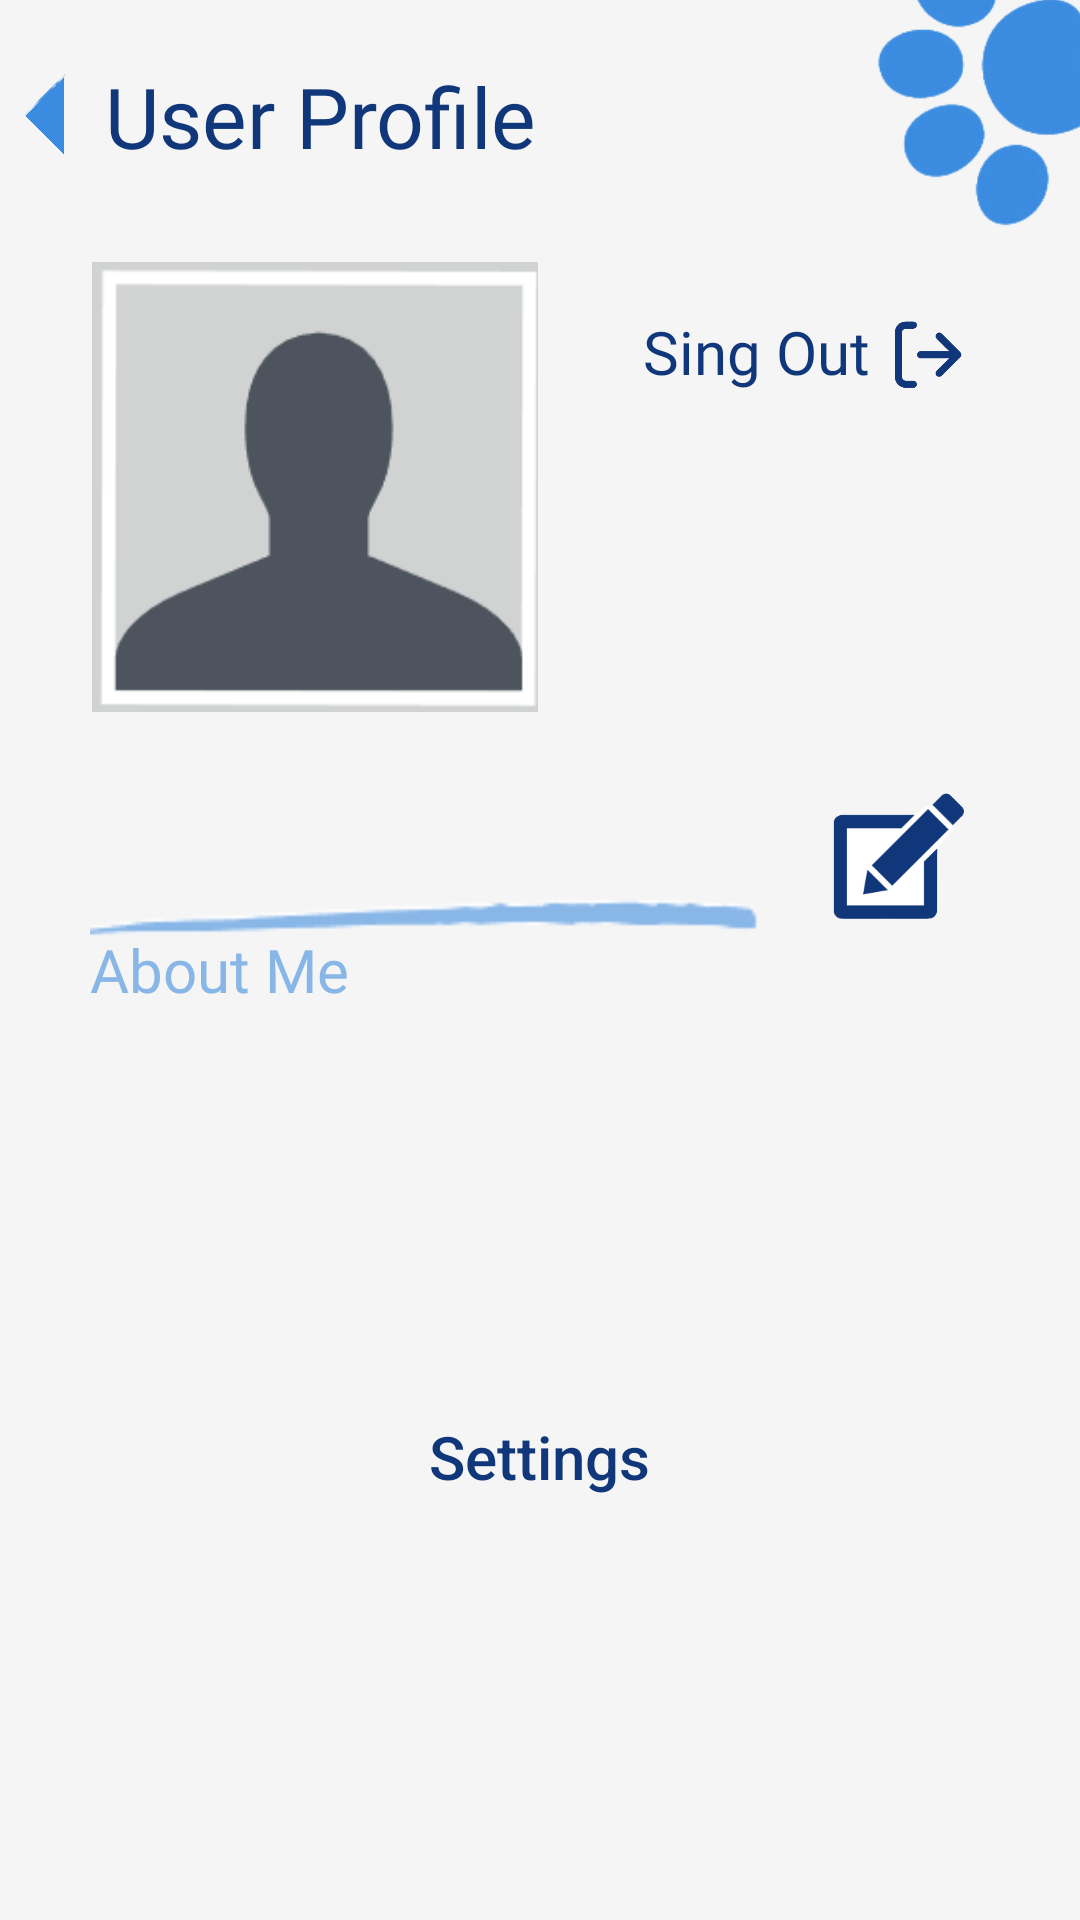

Screen size 1080w x 1920h. Icon name, then its center in pixels as (x=x, y=y):
arrow: (x=45, y=114)
edit: (x=898, y=856)
sign out: (x=928, y=354)
